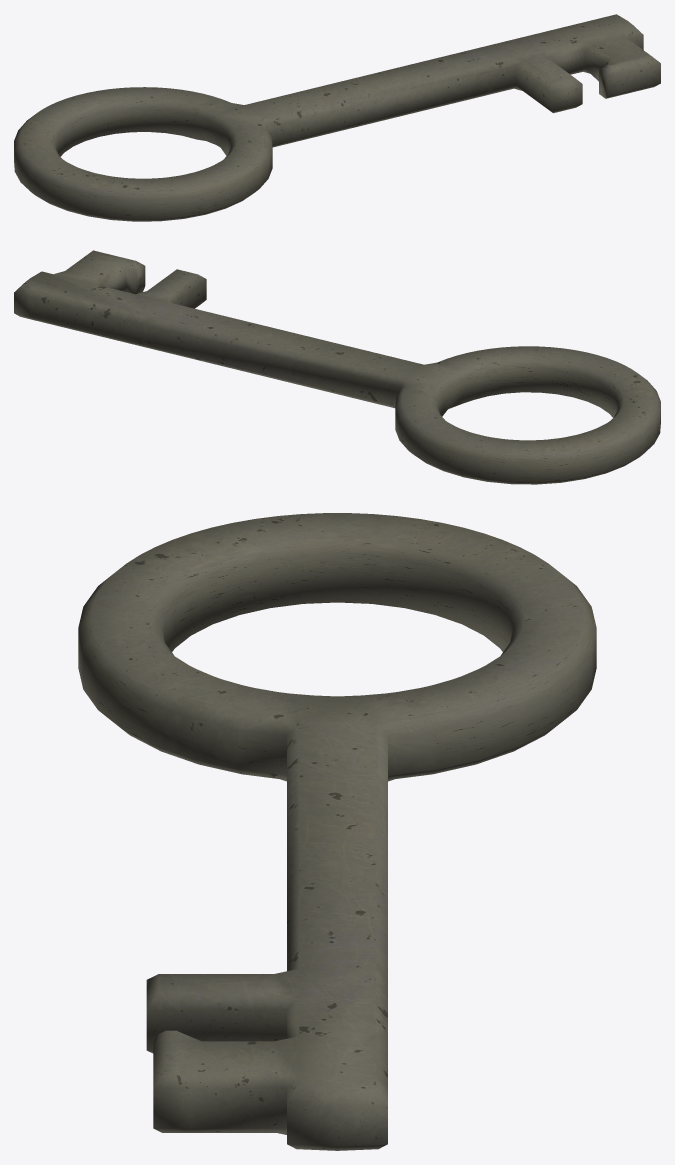
File: key.fbx
3 renders of one model, top to bottom at view 1: azimuth 30°, elevation 25°; view 2: azimuth 150°, elevation 25°; view 3: azimuth 270°, elevation 25°, orthographic. The views are drawn at different scales.
Visible parts, largest first — view 1: Key; view 2: Key; view 3: Key.
Boxes of the visible parts, <box> form: Key: <box>14,14,660,221</box>; Key: <box>14,250,660,484</box>; Key: <box>78,513,596,1150</box>.
Bounding box in the file's own units: 2000 × 255 × 5365.
